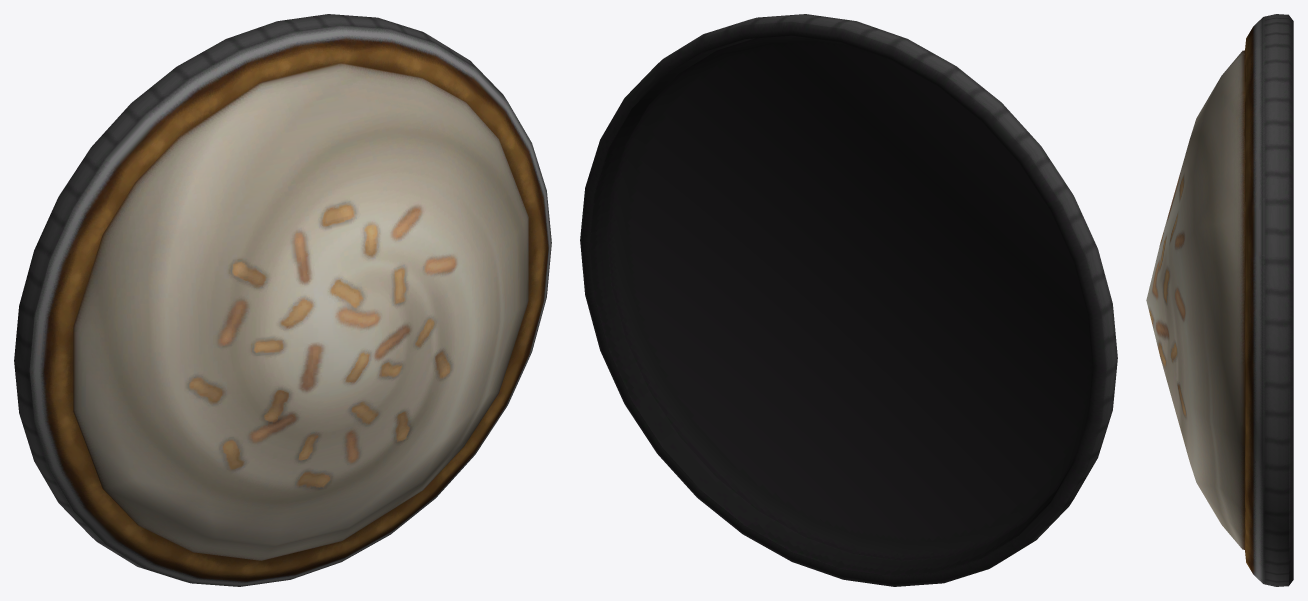
File: pie disc.glb
3 renders of one model, left to right at view 1: azimuth 30°, elevation 25°; view 2: azimuth 150°, elevation 25°; view 3: azimuth 270°, elevation 25°, orthographic. The views are drawn at different scales.
Parts seen in each view (by area): view 1: DiscGolfDisc_Skin_Pie, Frisbee_LOD0; view 2: Frisbee_LOD0; view 3: DiscGolfDisc_Skin_Pie, Frisbee_LOD0.
Boxes of the visible parts, box(x1,y1,x2,y2) form: DiscGolfDisc_Skin_Pie: box(73, 62, 528, 560); Frisbee_LOD0: box(14, 14, 551, 586); Frisbee_LOD0: box(580, 14, 1117, 586); DiscGolfDisc_Skin_Pie: box(1146, 50, 1245, 549); Frisbee_LOD0: box(1244, 14, 1293, 586).
Bounding box in the file's own units: 0.3028 × 0.3028 × 0.0778.
1 material, 1 textured.
